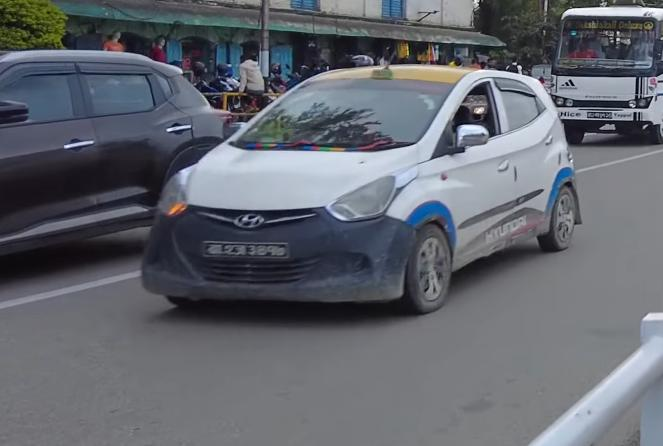bus: (553, 5, 663, 150)
car: (0, 43, 236, 265)
taxi: (141, 59, 586, 316)
